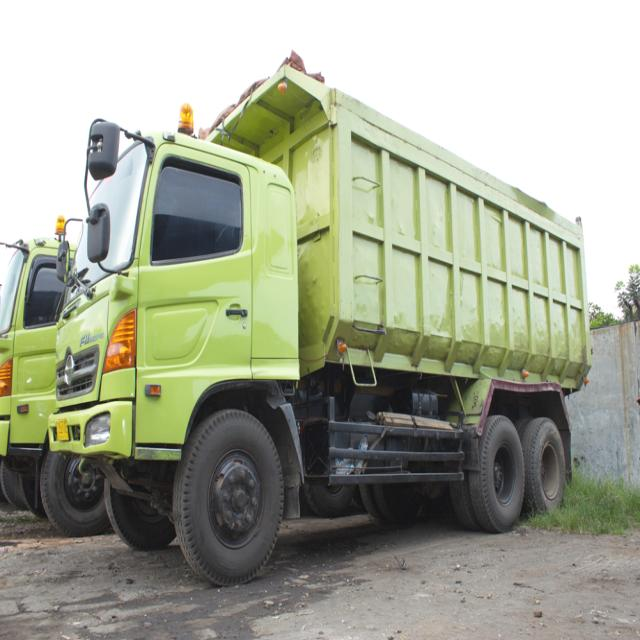truck: (47, 66, 593, 585)
